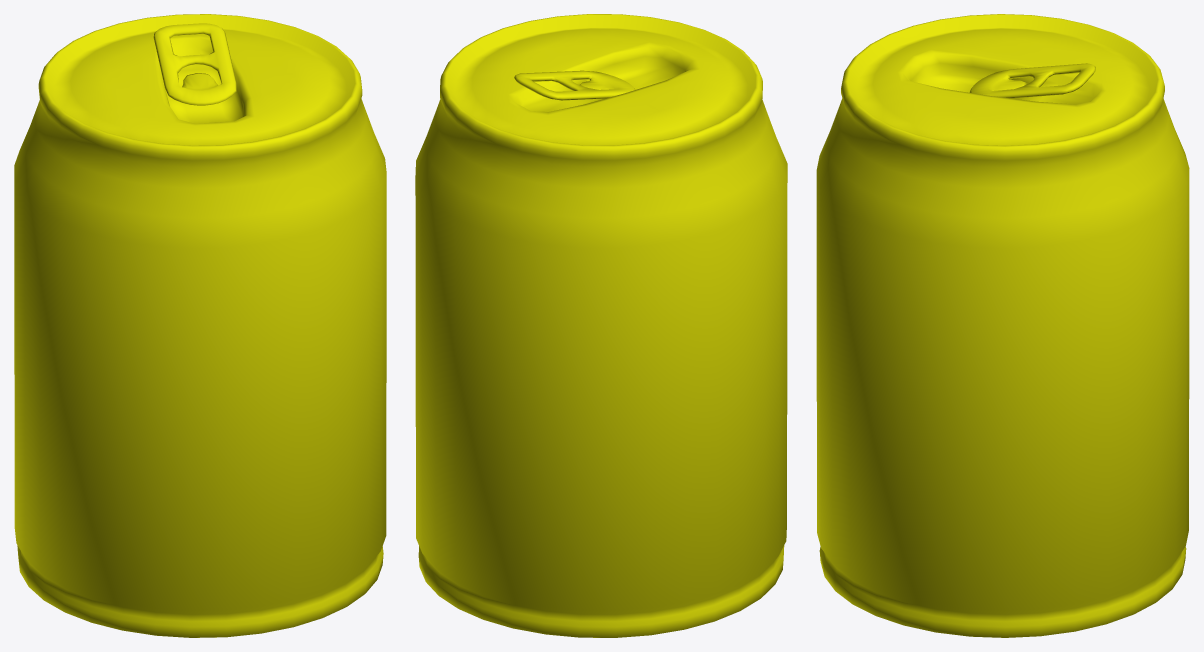
The picture shows the model from 3 angles, left to right: view 1: azimuth 30°, elevation 25°; view 2: azimuth 150°, elevation 25°; view 3: azimuth 270°, elevation 25°; orthographic projection.
Visible parts, largest first — view 1: Soda_Drink_Can_3_Low_Poly_Mandheling; view 2: Soda_Drink_Can_3_Low_Poly_Mandheling; view 3: Soda_Drink_Can_3_Low_Poly_Mandheling.
Part boxes in pixels (<box>): Soda_Drink_Can_3_Low_Poly_Mandheling: <box>14,14,386,637</box>; Soda_Drink_Can_3_Low_Poly_Mandheling: <box>415,14,787,637</box>; Soda_Drink_Can_3_Low_Poly_Mandheling: <box>816,14,1189,637</box>.
Bounding box in the file's own units: 0.0891 × 0.1318 × 0.0891.
1 material, 1 textured.
